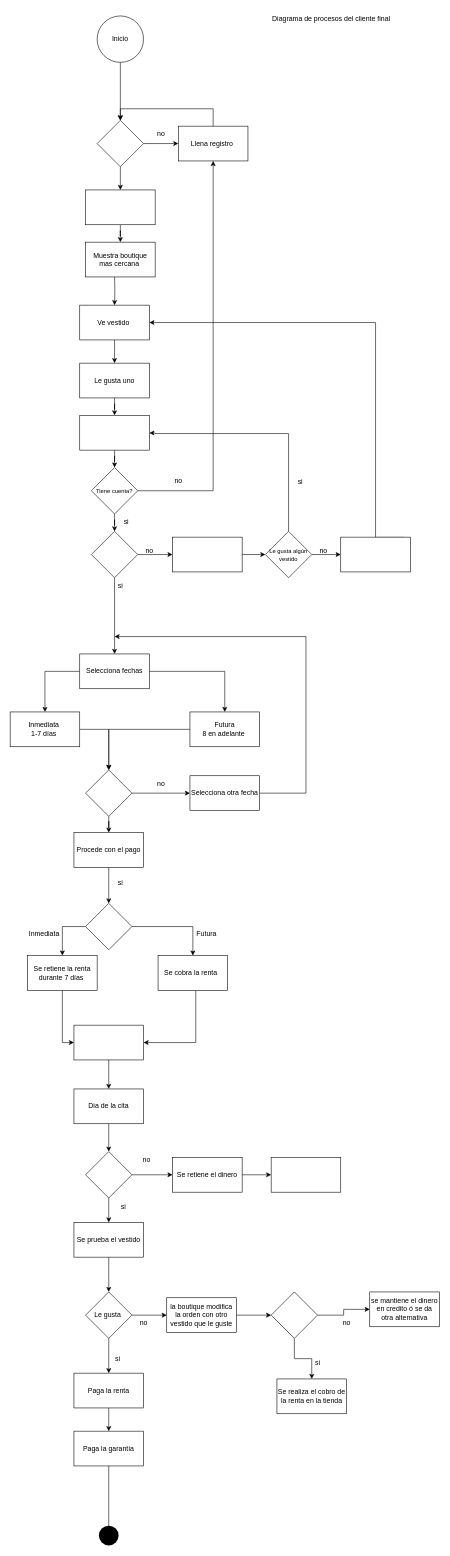
Some shapes in this 450 by 1556 pixel diagram are drawn without their labels. The centre of each missing label's shape, as x and y in pixels:
"Asiste?" belongs at point 108,1174.
"Disponibilidad de fecha" belongs at point 108,792.
"Elije otro" belongs at point 294,1314.
"Hay disponibilidad" belongs at point 114,554.
"Inicio de seccion" belongs at point 120,143.
"Le muestra mas boutique" belongs at point 375,554.
"Muestra otros vestidos" belongs at point 207,554.
"Pide permiso de ubicación" belongs at point 120,207.
"se agenda cita" belongs at point 108,1042.
"se guarda como credito en la app" belongs at point 306,1174.
"Selecciona el vestido" belongs at point 114,432.
"Tipo de fecha" belongs at point 108,926.
